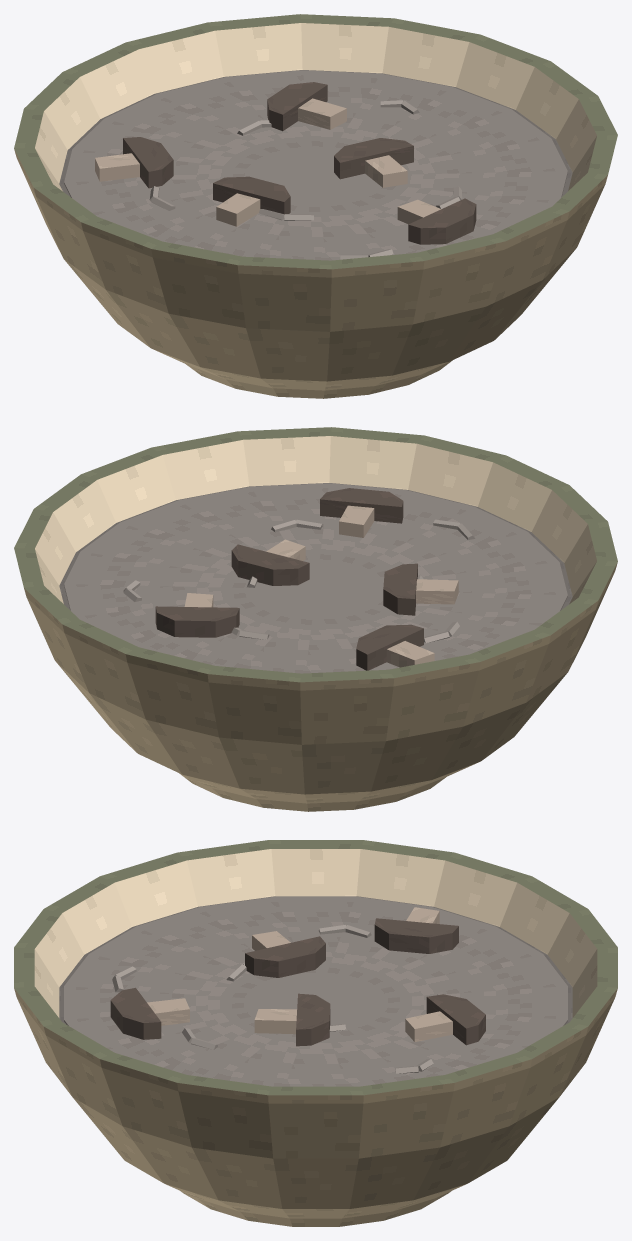
Rendered from soup_mushroom.glb.
3 renders of one model, top to bottom at view 1: azimuth 30°, elevation 25°; view 2: azimuth 150°, elevation 25°; view 3: azimuth 270°, elevation 25°, orthographic.
Visible parts, largest first — view 1: block_deep open soup bowl, block_soup surface, block_mushroom cap slice (×5), block_pale mushroom stem (×5), block_shaded liquid meniscus; view 2: block_deep open soup bowl, block_soup surface, block_mushroom cap slice (×5), block_pale mushroom stem (×4), block_shaded liquid meniscus; view 3: block_deep open soup bowl, block_soup surface, block_mushroom cap slice (×5), block_pale mushroom stem (×3), block_shaded liquid meniscus.
Boxes of the visible parts, x1,y1,x2,y2 form: block_deep open soup bowl: (14, 14, 617, 398); block_soup surface: (64, 70, 567, 260); block_mushroom cap slice (×5): (123, 82, 476, 244); block_pale mushroom stem (×5): (95, 98, 441, 226); block_shaded liquid meniscus: (59, 70, 572, 196); block_deep open soup bowl: (14, 427, 617, 811); block_soup surface: (64, 483, 567, 673); block_mushroom cap slice (×5): (155, 488, 423, 670); block_pale mushroom stem (×4): (266, 505, 458, 667); block_shaded liquid meniscus: (59, 483, 572, 609); block_deep open soup bowl: (14, 840, 617, 1226); block_soup surface: (64, 896, 567, 1086); block_mushroom cap slice (×5): (110, 918, 485, 1046); block_pale mushroom stem (×3): (147, 998, 452, 1041); block_shaded liquid meniscus: (59, 896, 572, 1023).
Size of the model in its own units: 0.1437 by 0.0517 by 0.1437.
Materials: 1 (1 with a texture image).
